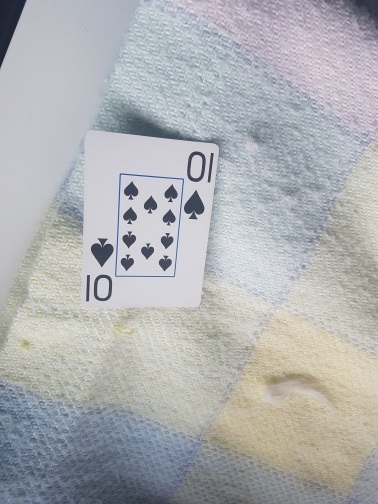ten: (79, 133, 219, 310)
